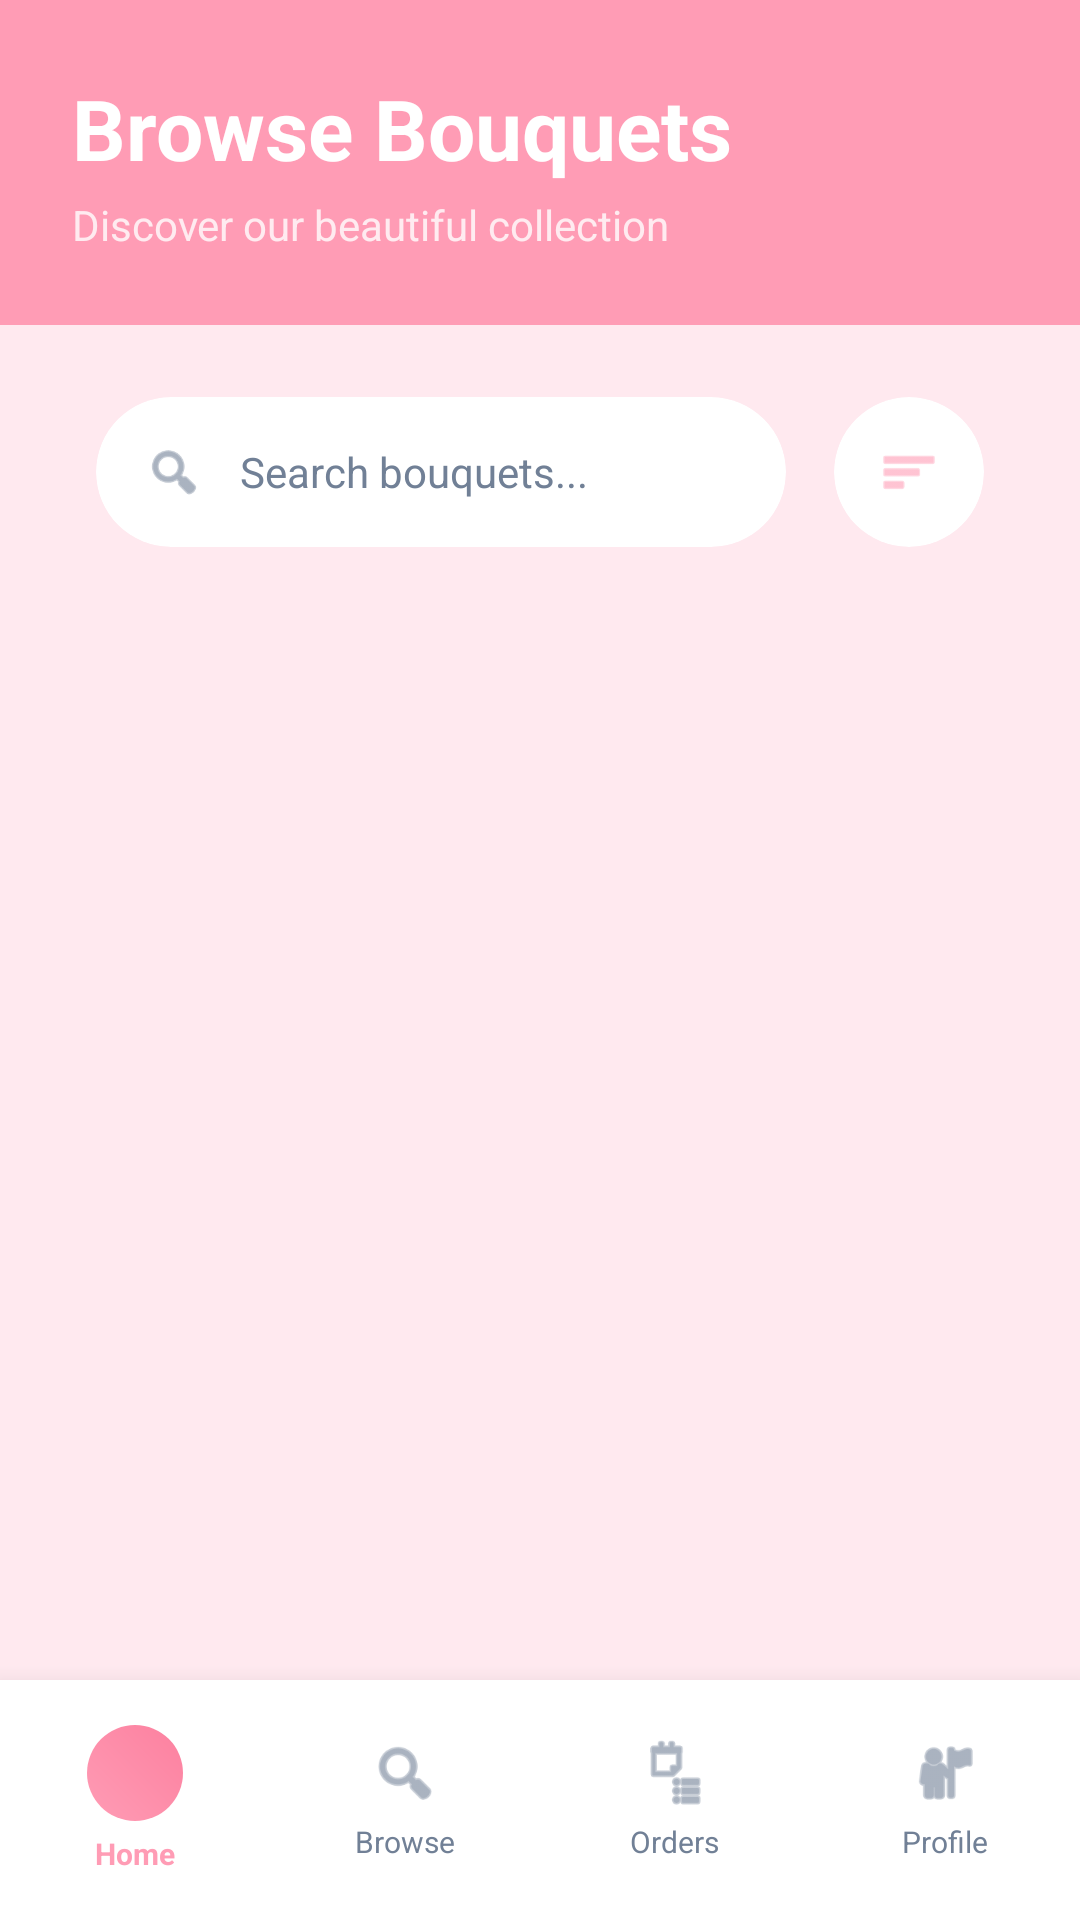

Icon click points for this 1080x1920 phone screenshot, format point (x, y):
agenda: point (675, 1773)
myplaces: point (946, 1773)
